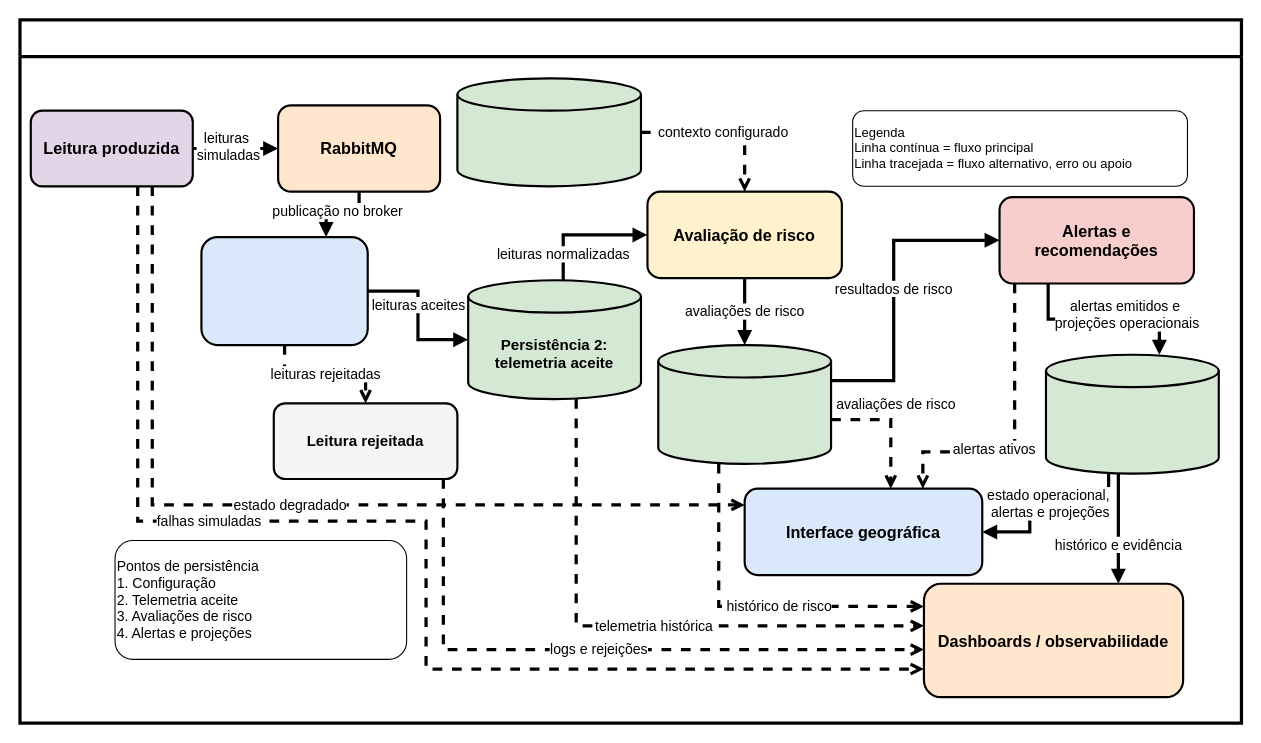
The diagram is 1261 pixels wide and 743 high, and some of its shapes have lost their labels. The box of each missing label's shape, as (x1, y1, x2, y2) in pixels:
Ingestão, validação e normalização: (200, 235, 368, 346)
Módulo de Prevenção, fluxo operacional principal: (18, 18, 1243, 724)
Persistência 1: configuração fora do fluxo runtime principal: (456, 77, 642, 187)
Persistência 3: avaliações de risco: (657, 343, 832, 464)
Persistência 4: alertas e projeções: (1044, 353, 1219, 474)
